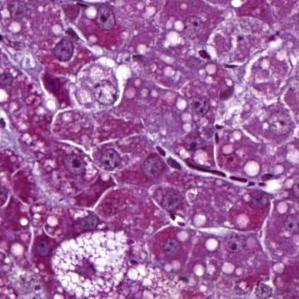ballooning: (49, 228, 131, 298)
